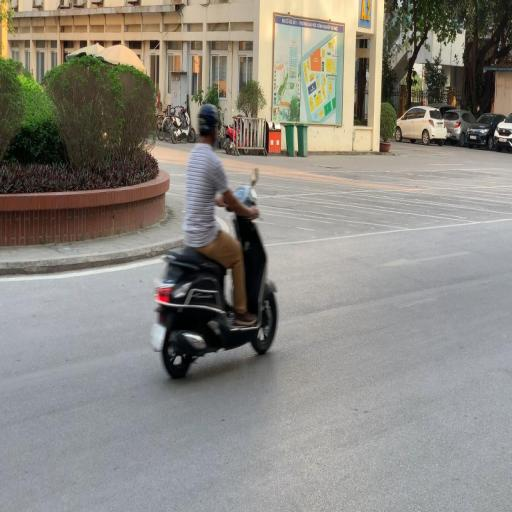bike: (150, 102, 284, 383)
numberplate: (151, 323, 167, 355)
with helmet: (196, 101, 220, 134)
